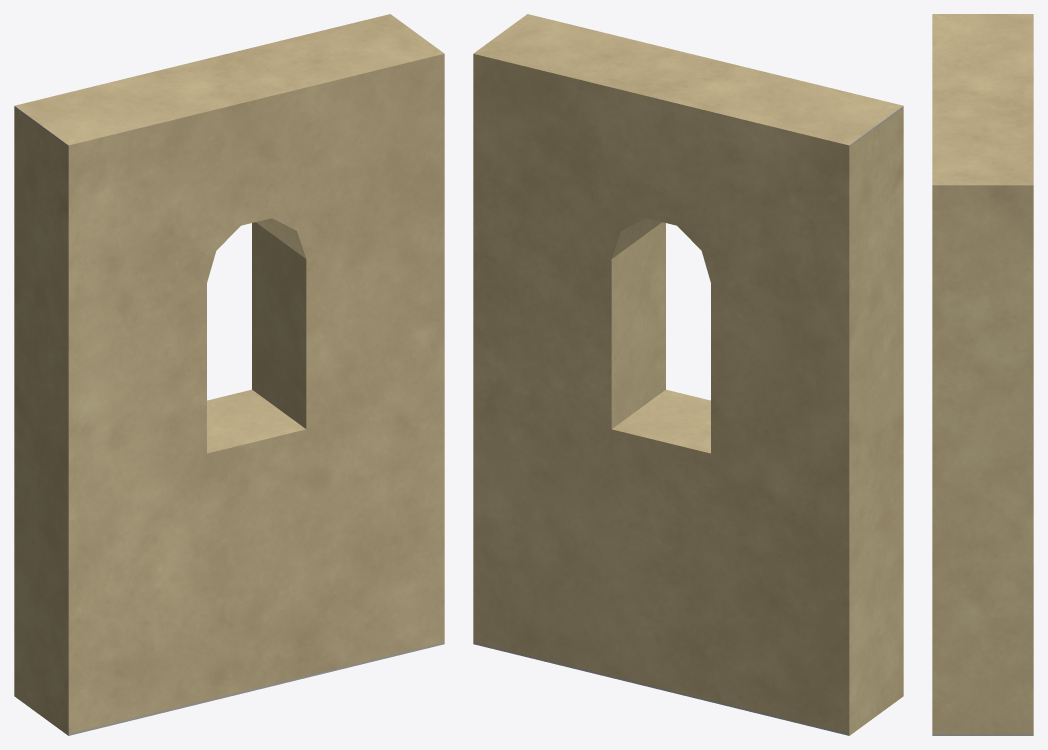
File: sm_smallwindow.fbx
The picture shows the model from 3 angles, left to right: view 1: azimuth 30°, elevation 25°; view 2: azimuth 150°, elevation 25°; view 3: azimuth 270°, elevation 25°; orthographic projection. The views are drawn at different scales.
Parts seen in each view (by area): view 1: Wall_SmallWindow; view 2: Wall_SmallWindow; view 3: Wall_SmallWindow.
Part boxes in pixels (x1,y1,x2,y2): Wall_SmallWindow: (14,14,444,735); Wall_SmallWindow: (473,14,903,735); Wall_SmallWindow: (932,14,1033,735).
Size of the model in its own units: 2 by 3 by 0.5.
